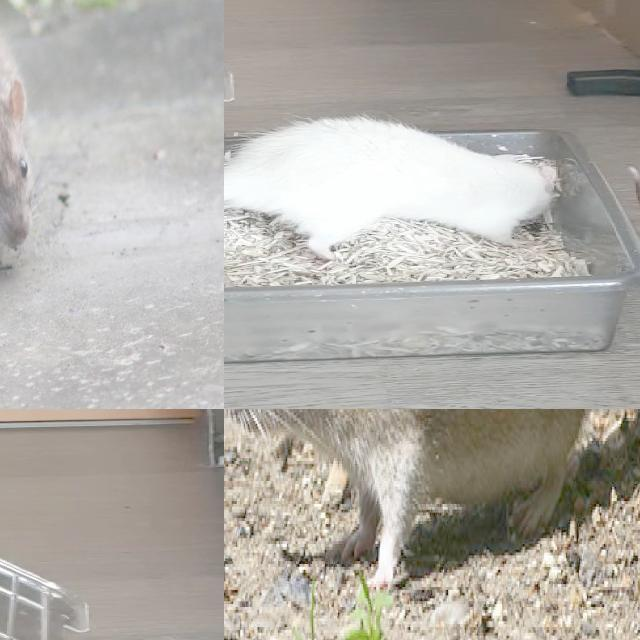rat: (224, 409, 640, 595), (224, 116, 559, 259), (0, 0, 37, 284)
